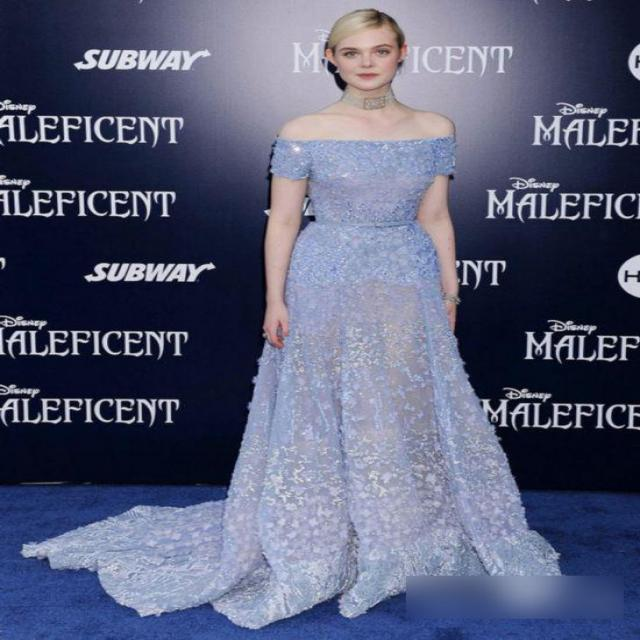Manusia: (162, 4, 545, 640)
